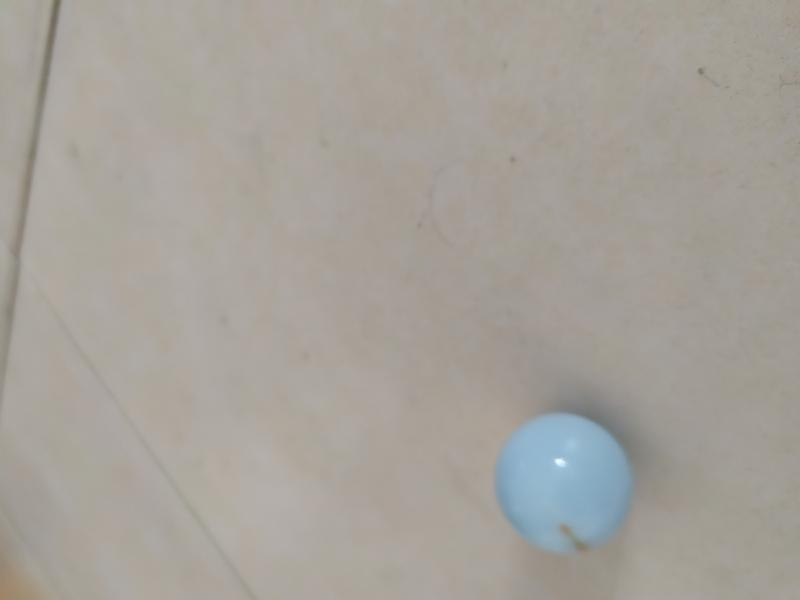Warning: (491, 408, 637, 558)
